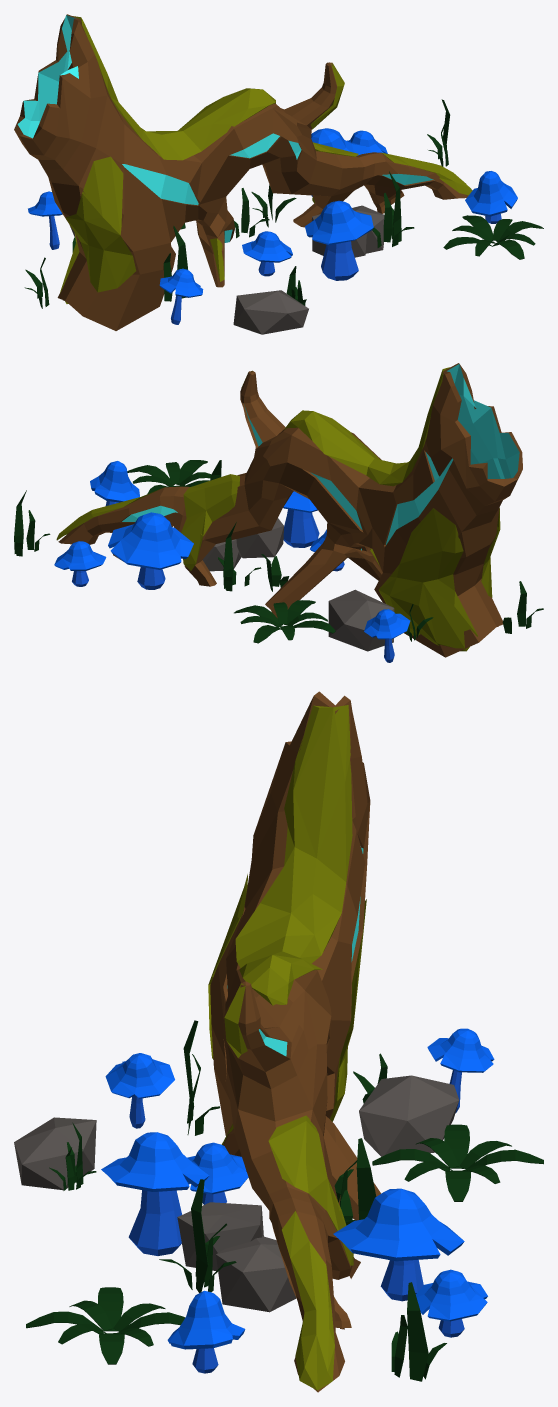
The model's file is racine_LVL3.fbx.
3 renders of one model, top to bottom at view 1: azimuth 30°, elevation 25°; view 2: azimuth 150°, elevation 25°; view 3: azimuth 270°, elevation 25°, orthographic. The views are drawn at different scales.
Parts seen in each view (by area): view 1: Plane.148; view 2: Plane.148; view 3: Plane.148.
Boxes of the visible parts, bbox=[...] form: Plane.148: bbox=[14, 14, 543, 334]; Plane.148: bbox=[14, 363, 543, 662]; Plane.148: bbox=[14, 691, 543, 1392].
Bounding box in the file's own units: 2.64 × 1.71 × 1.55.
